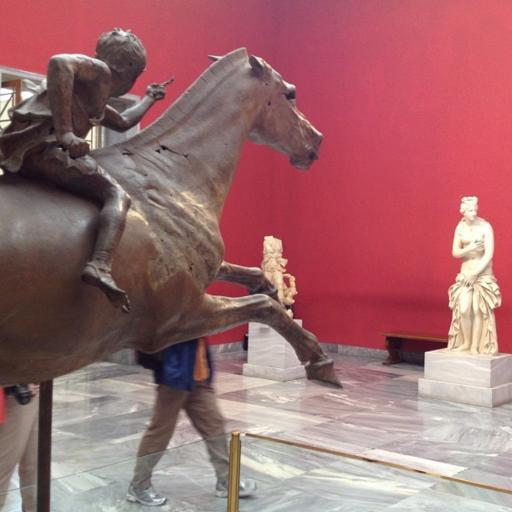horse: (0, 46, 343, 392)
